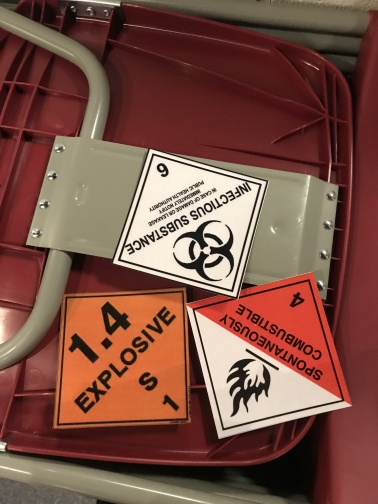Explosive: (55, 288, 192, 428)
InfectiousSubstance: (113, 148, 267, 299)
SpontaneouslyCombustible: (186, 273, 352, 440)
